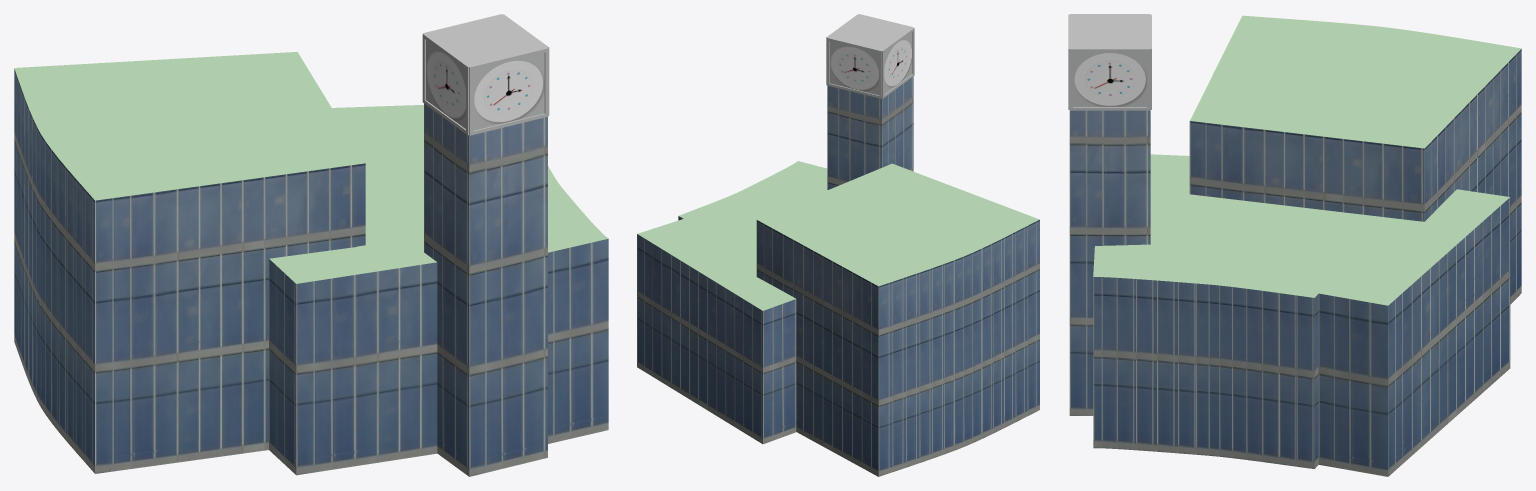
File: zhonglou.fbx
The picture shows the model from 3 angles, left to right: view 1: azimuth 30°, elevation 25°; view 2: azimuth 150°, elevation 25°; view 3: azimuth 270°, elevation 25°; orthographic projection. The views are drawn at different scales.
Visible parts, largest first — view 1: CityEngineMaterial_2_m, CityEngineMaterial_m, CityEngineMaterial_4_m, CityEngineMaterial_5_m, CityEngineMaterial_3_m; view 2: CityEngineMaterial_2_m, CityEngineMaterial_m, CityEngineMaterial_4_m, CityEngineMaterial_5_m, CityEngineMaterial_3_m; view 3: CityEngineMaterial_2_m, CityEngineMaterial_m, CityEngineMaterial_4_m, CityEngineMaterial_3_m, CityEngineMaterial_5_m.
Part boxes in pixels (left/top/right/bottom): CityEngineMaterial_2_m: left=14, top=69, right=608, bottom=475; CityEngineMaterial_m: left=14, top=52, right=608, bottom=283; CityEngineMaterial_4_m: left=424, top=103, right=547, bottom=476; CityEngineMaterial_5_m: left=426, top=40, right=544, bottom=130; CityEngineMaterial_3_m: left=422, top=14, right=549, bottom=135; CityEngineMaterial_2_m: left=637, top=216, right=1039, bottom=476; CityEngineMaterial_m: left=637, top=161, right=1039, bottom=310; CityEngineMaterial_4_m: left=827, top=76, right=913, bottom=189; CityEngineMaterial_5_m: left=829, top=32, right=912, bottom=95; CityEngineMaterial_3_m: left=826, top=14, right=914, bottom=98; CityEngineMaterial_2_m: left=1093, top=49, right=1521, bottom=476; CityEngineMaterial_m: left=1093, top=15, right=1521, bottom=305; CityEngineMaterial_4_m: left=1069, top=110, right=1150, bottom=415; CityEngineMaterial_3_m: left=1068, top=14, right=1151, bottom=110; CityEngineMaterial_5_m: left=1073, top=52, right=1147, bottom=106.
Bounding box in the file's own units: 37.99 × 30 × 33.61.
